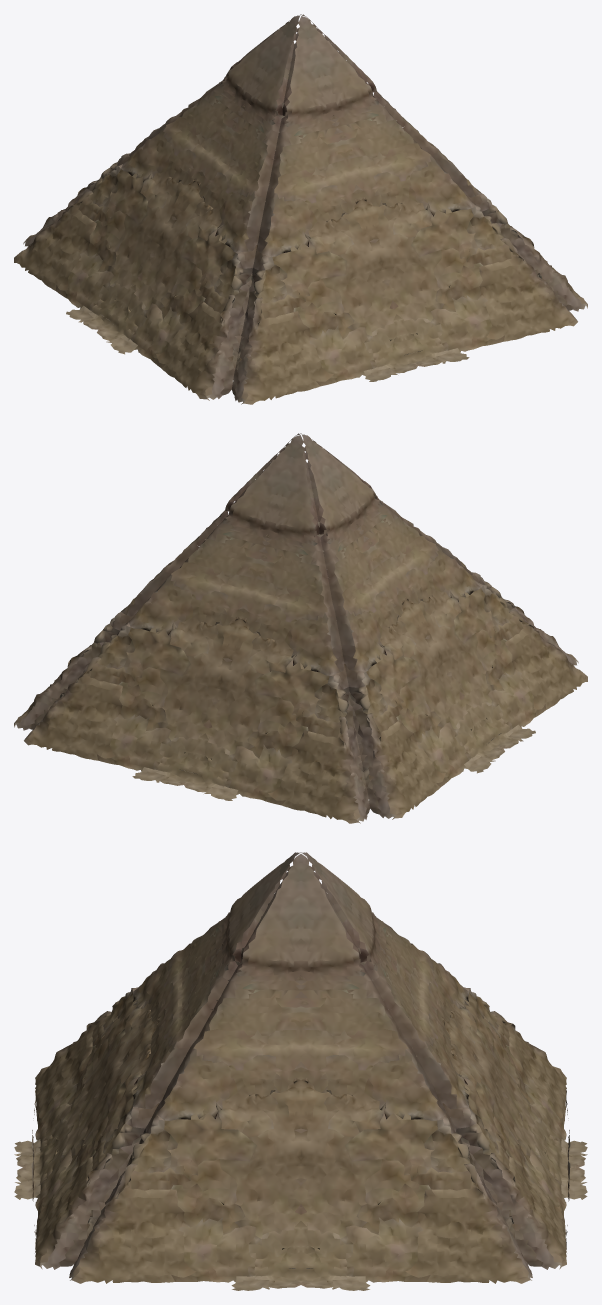
The model's file is piramidi.glb.
3 views of the same model, one above another, from view 1: azimuth 30°, elevation 25°; view 2: azimuth 150°, elevation 25°; view 3: azimuth 270°, elevation 25° (orthographic). The views are drawn at different scales.
Parts seen in each view (by area): view 1: chefren, cheope; view 2: chefren, cheope; view 3: chefren, cheope.
Part boxes in pixels (bbox=[...]): chefren: bbox=[14, 14, 587, 404]; cheope: bbox=[100, 44, 574, 395]; chefren: bbox=[14, 433, 587, 823]; cheope: bbox=[27, 463, 501, 814]; chefren: bbox=[14, 852, 587, 1290]; cheope: bbox=[31, 903, 570, 1268].
Size of the model in its own units: 2.1 by 1.29 by 2.1.
Materials: 1 (1 with a texture image).
